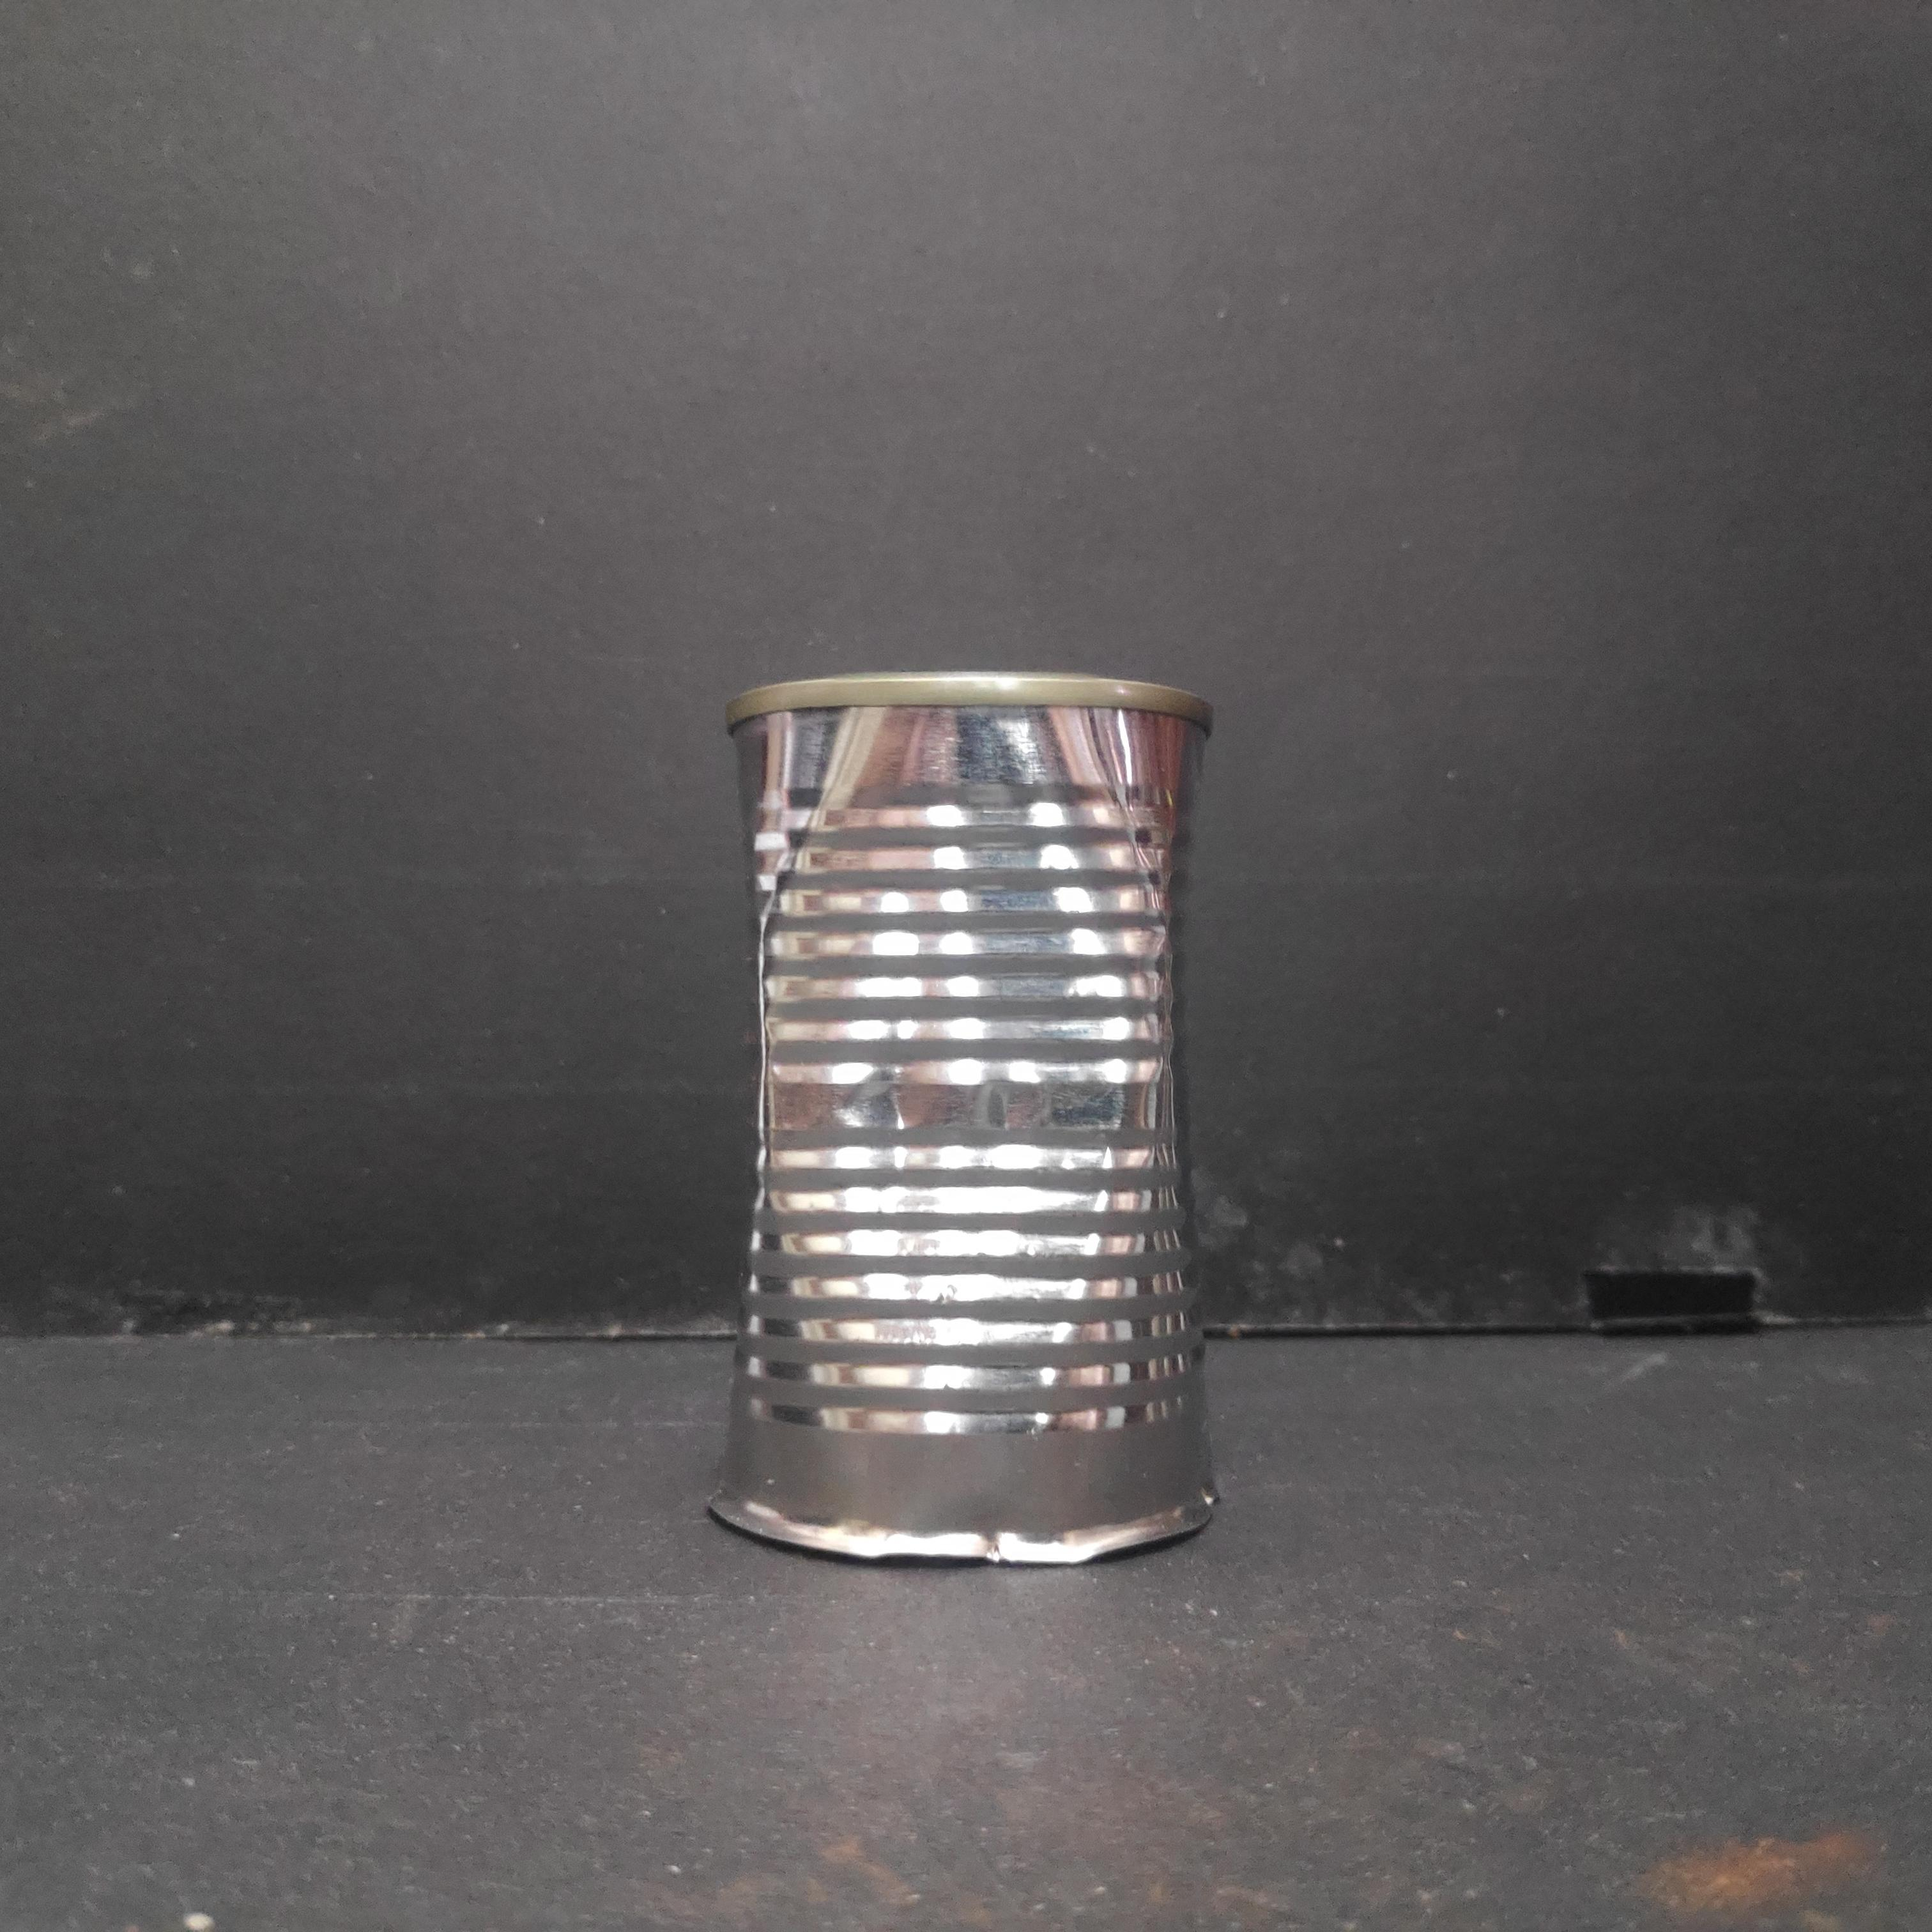Minor Defect: (717, 662, 1230, 1592)
